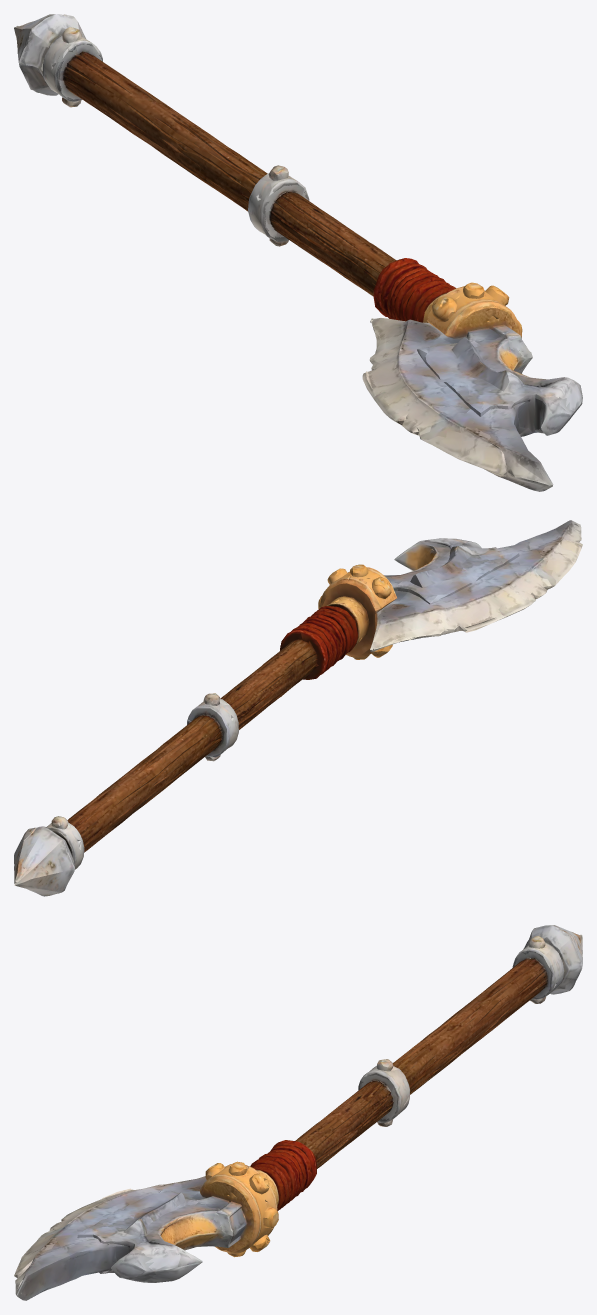
Rendered from warrior_twohand_t0.c8f4f6ea.glb.
3 renders of one model, top to bottom at view 1: azimuth 30°, elevation 25°; view 2: azimuth 150°, elevation 25°; view 3: azimuth 330°, elevation 25°, orthographic. The views are drawn at different scales.
Visible parts, largest first — view 1: tripo_node_6be3ab80-ecdc-483c-83d1-6d80d15defd1; view 2: tripo_node_6be3ab80-ecdc-483c-83d1-6d80d15defd1; view 3: tripo_node_6be3ab80-ecdc-483c-83d1-6d80d15defd1.
Part boxes in pixels (box(x1,y1,x2,y2)): tripo_node_6be3ab80-ecdc-483c-83d1-6d80d15defd1: box(14, 14, 582, 491); tripo_node_6be3ab80-ecdc-483c-83d1-6d80d15defd1: box(14, 520, 582, 896); tripo_node_6be3ab80-ecdc-483c-83d1-6d80d15defd1: box(14, 925, 582, 1300).
Size of the model in its own units: 0.2575 by 0.1401 by 1.42.
Materials: 1 (1 with a texture image).
